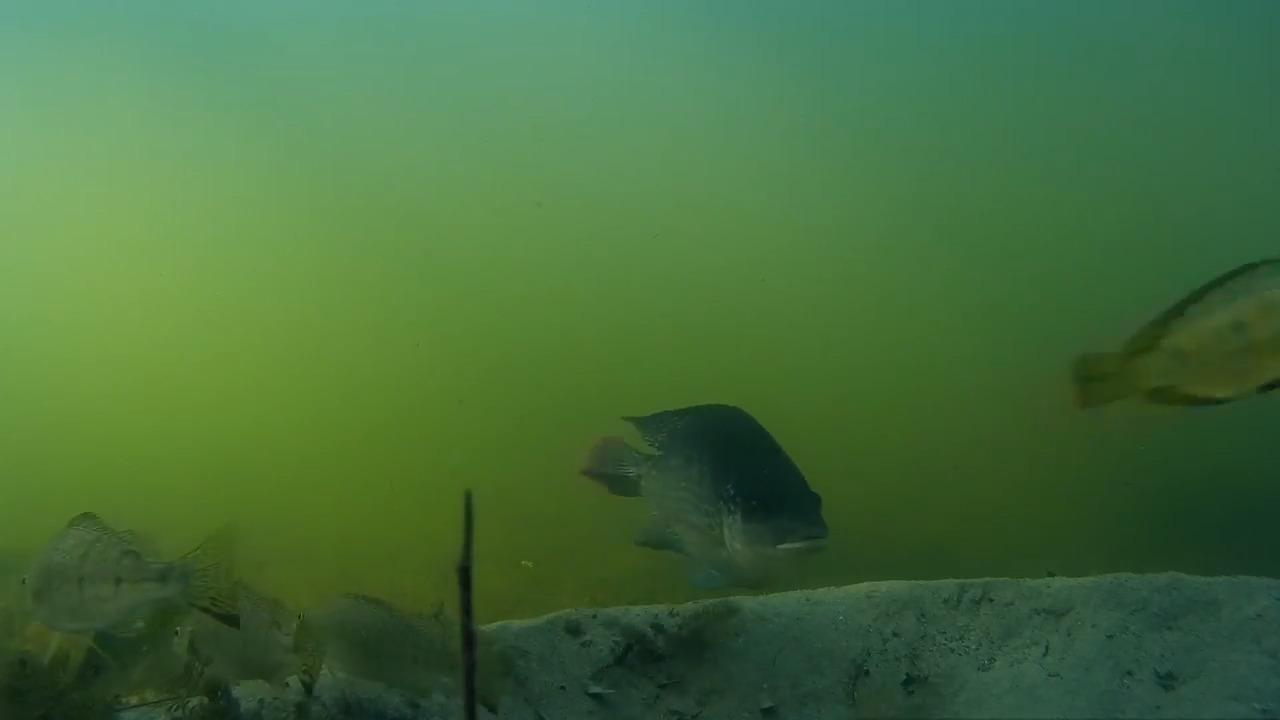Tilapia: (12, 503, 298, 705), (579, 396, 848, 569), (1062, 240, 1280, 422), (296, 594, 495, 720)
